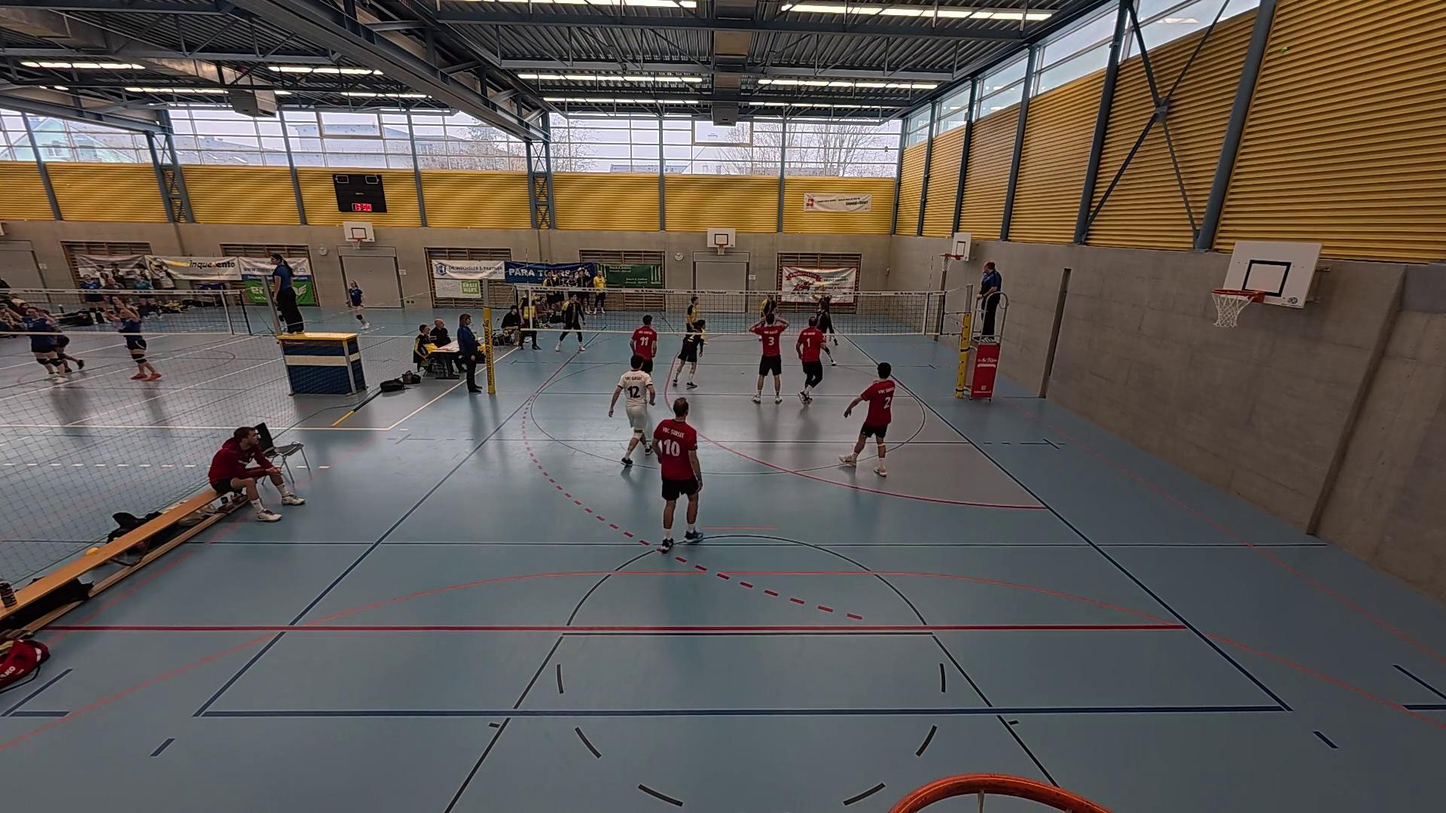Player: (650, 397, 704, 553), (838, 361, 898, 477), (609, 356, 656, 467), (749, 311, 787, 405), (793, 315, 828, 406), (668, 315, 703, 390), (629, 315, 659, 378), (556, 294, 587, 353), (685, 297, 706, 355), (757, 291, 778, 321)
Receive: (806, 283, 840, 345)
ball: (817, 281, 828, 292)
